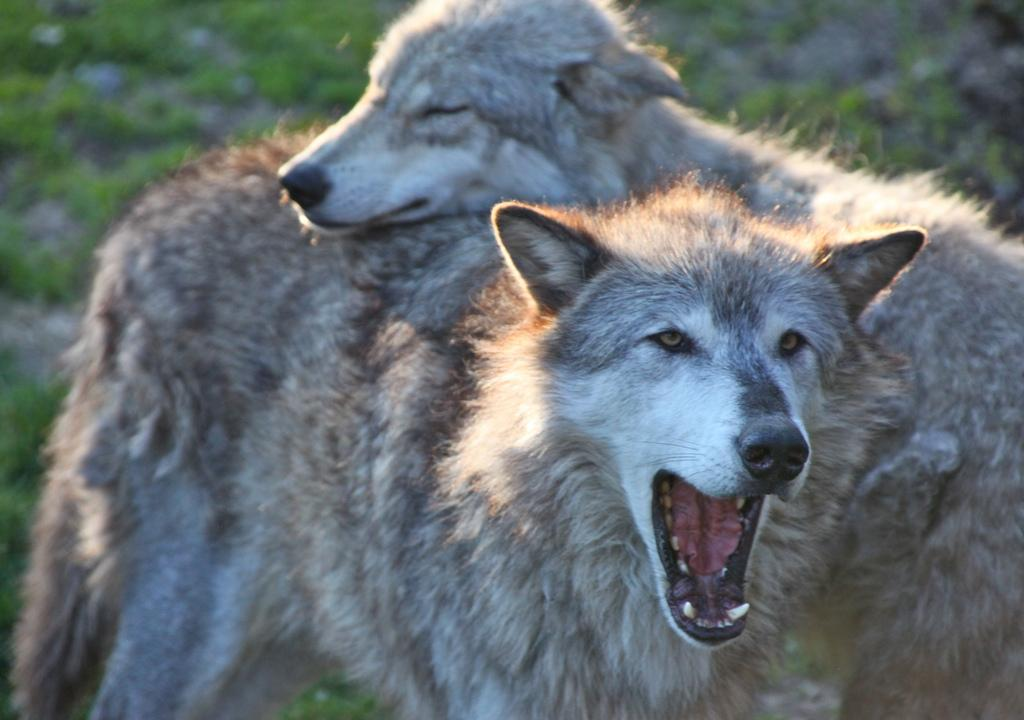Wolf: (8, 118, 927, 720), (273, 0, 1024, 720)
